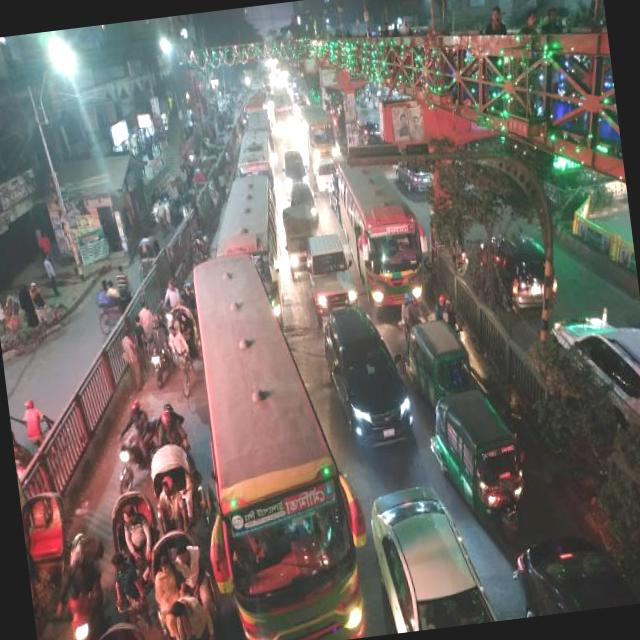bus: (192, 244, 367, 640), (344, 163, 429, 304), (208, 170, 282, 254), (300, 99, 340, 157), (236, 127, 276, 175), (272, 90, 297, 134), (246, 107, 271, 130), (244, 92, 272, 108)
car: (366, 474, 492, 632), (320, 298, 418, 452), (550, 306, 640, 470), (507, 525, 640, 614), (476, 225, 562, 312), (307, 228, 356, 306), (396, 158, 434, 192), (327, 172, 343, 219), (289, 178, 318, 201), (313, 156, 338, 172), (292, 95, 304, 104)
motorcycle: (428, 380, 536, 544), (145, 523, 218, 640), (20, 482, 81, 620), (149, 438, 210, 530), (412, 313, 476, 397), (165, 300, 206, 398), (12, 406, 73, 464), (109, 484, 160, 545), (0, 288, 39, 358), (110, 432, 146, 490), (87, 616, 155, 640), (94, 286, 126, 332), (146, 342, 172, 392), (135, 232, 163, 278), (188, 232, 215, 260), (193, 166, 209, 188), (216, 111, 228, 134), (202, 150, 214, 163), (206, 140, 217, 152), (227, 114, 236, 128), (237, 94, 244, 109)
truck: (282, 202, 308, 274), (282, 143, 310, 180)
